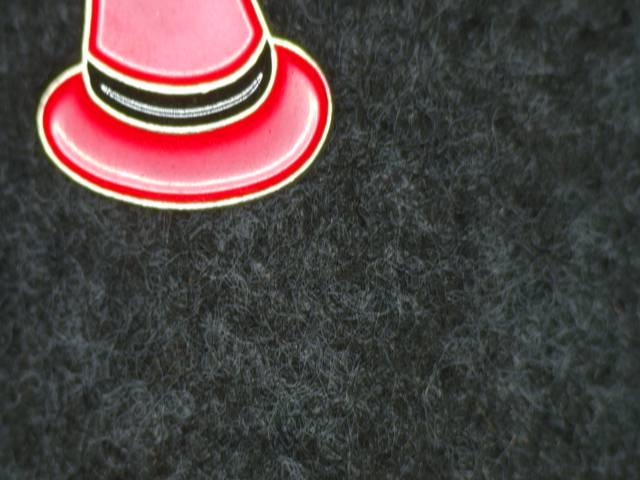Red-Hat: (16, 0, 362, 238)
